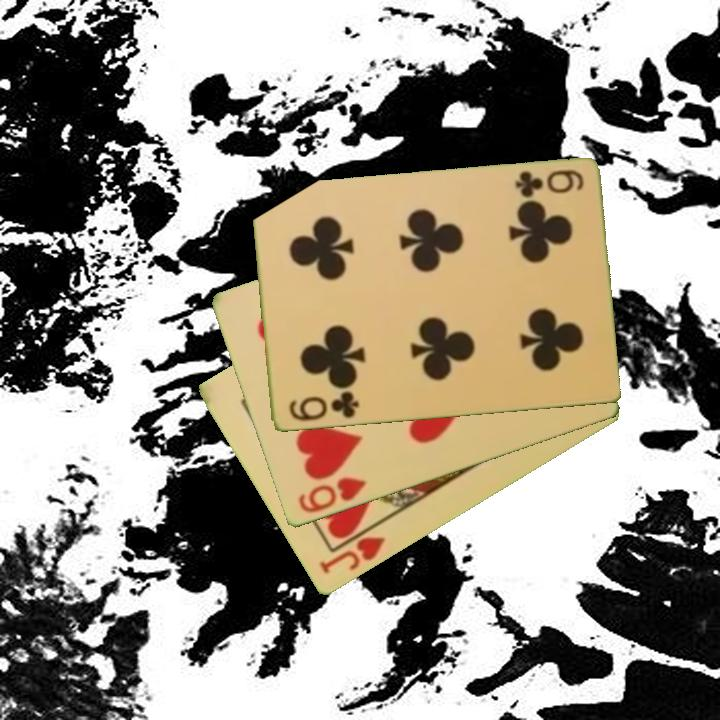6c: (285, 388, 362, 425), (511, 166, 586, 201)
6h: (294, 474, 369, 517)
Jh: (315, 519, 388, 577)
